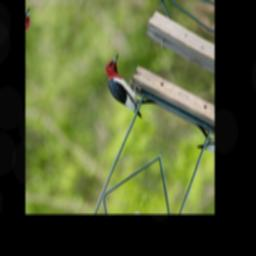Woodpecker: (95, 51, 159, 119)
